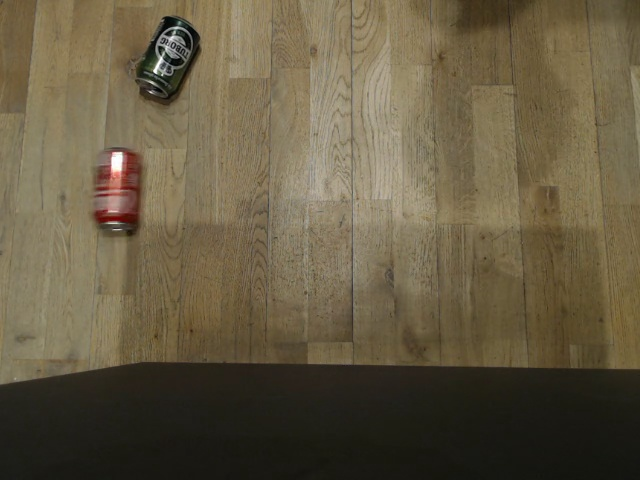beer: (131, 11, 204, 102)
cola: (92, 148, 146, 235)
